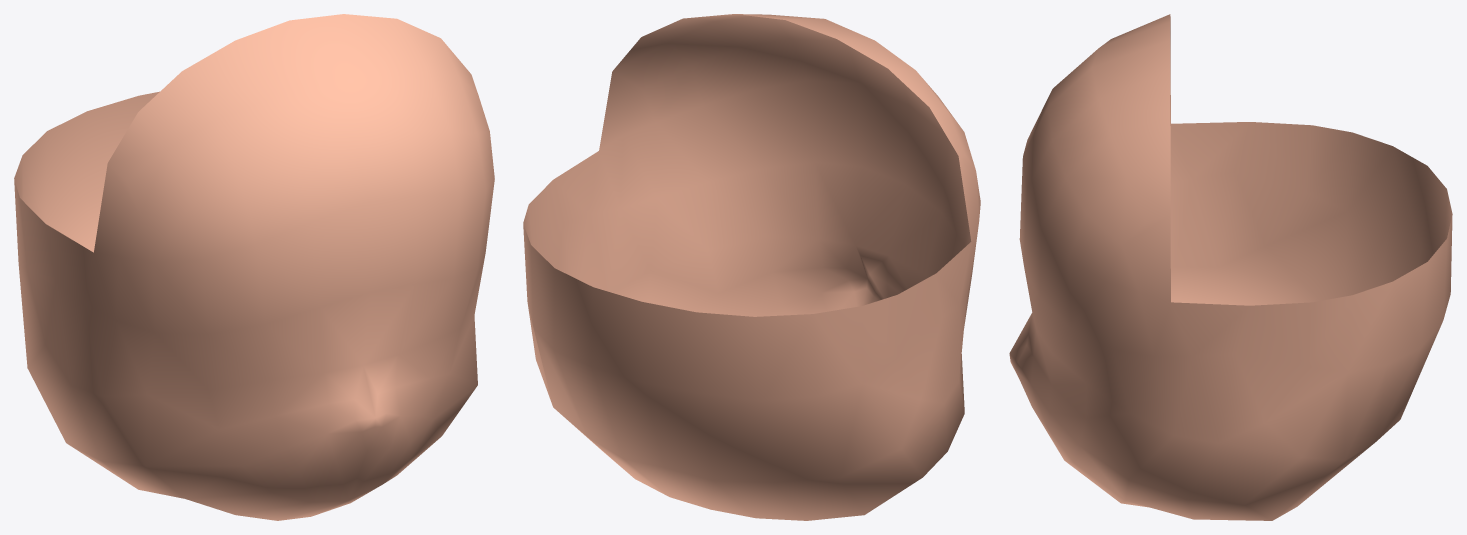
3 renders of one model, left to right at view 1: azimuth 30°, elevation 25°; view 2: azimuth 150°, elevation 25°; view 3: azimuth 270°, elevation 25°, orthographic. The views are drawn at different scales.
Visible parts, largest first — view 1: AF_M_Face_05; view 2: AF_M_Face_05; view 3: AF_M_Face_05.
Part boxes in pixels (left/top/right/bottom): AF_M_Face_05: left=14, top=14, right=494, bottom=520; AF_M_Face_05: left=523, top=14, right=980, bottom=520; AF_M_Face_05: left=1009, top=14, right=1452, bottom=520.
Bounding box in the file's own units: 649 × 741 × 661.
1 material, 1 textured.
